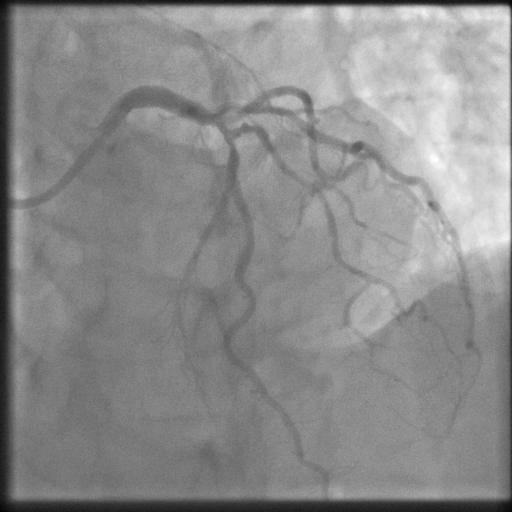Stenosis: (210, 116, 237, 153)
